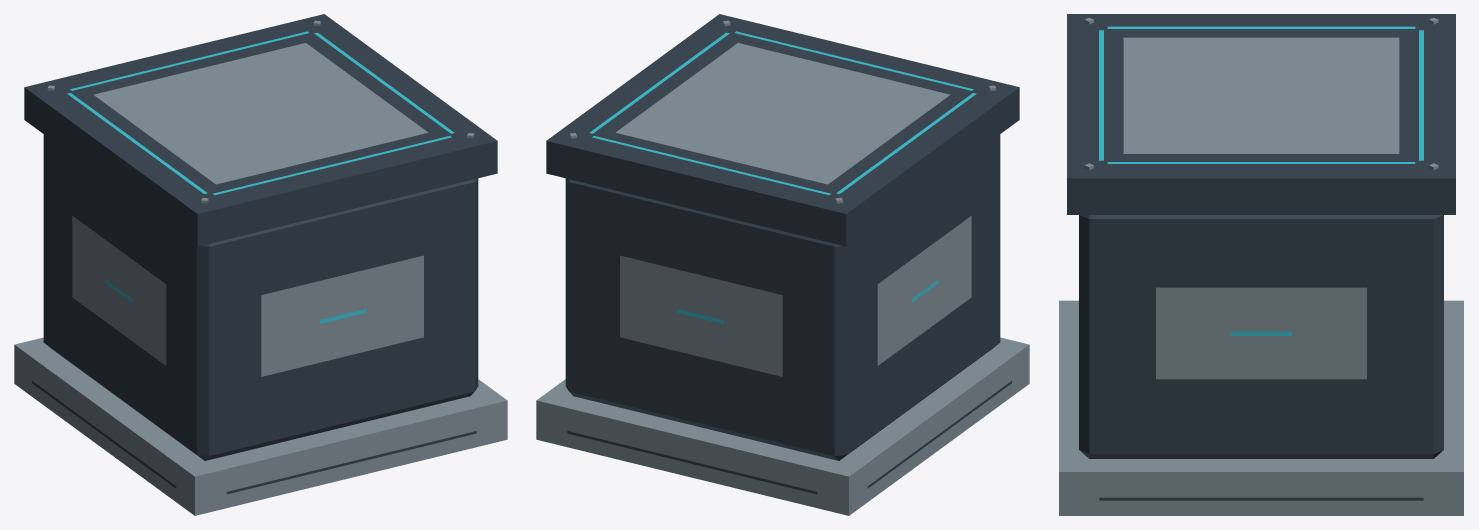
The model's file is 0-20261016-1900-ev024-r04-mockup-plinth.fbx.
3 views of the same model, side by side, from view 1: azimuth 30°, elevation 25°; view 2: azimuth 150°, elevation 25°; view 3: azimuth 270°, elevation 25° (orthographic). The views are drawn at different scales.
Visible parts, largest first — view 1: SW_Showroom_Plinth; view 2: SW_Showroom_Plinth; view 3: SW_Showroom_Plinth.
Part boxes in pixels (x1,y1,x2,y2): SW_Showroom_Plinth: [14, 14, 507, 515]; SW_Showroom_Plinth: [536, 14, 1029, 515]; SW_Showroom_Plinth: [1059, 14, 1463, 515].
Size of the model in its own units: 100 by 92 by 100.
